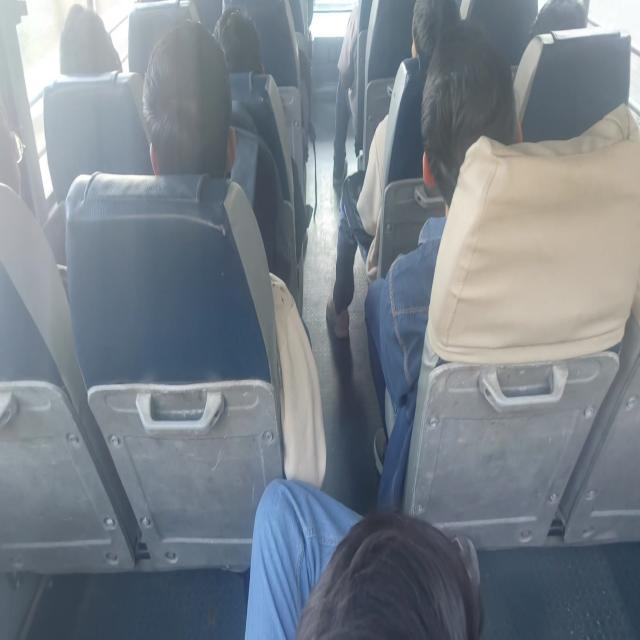person: (291, 503, 489, 640), (425, 38, 513, 218), (140, 40, 245, 180), (44, 0, 124, 83), (201, 6, 270, 89), (400, 0, 471, 59), (527, 0, 598, 41), (0, 87, 23, 201)
